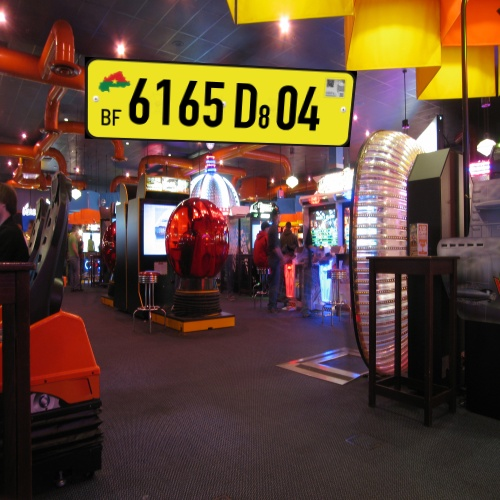plate: (75, 39, 369, 168)
